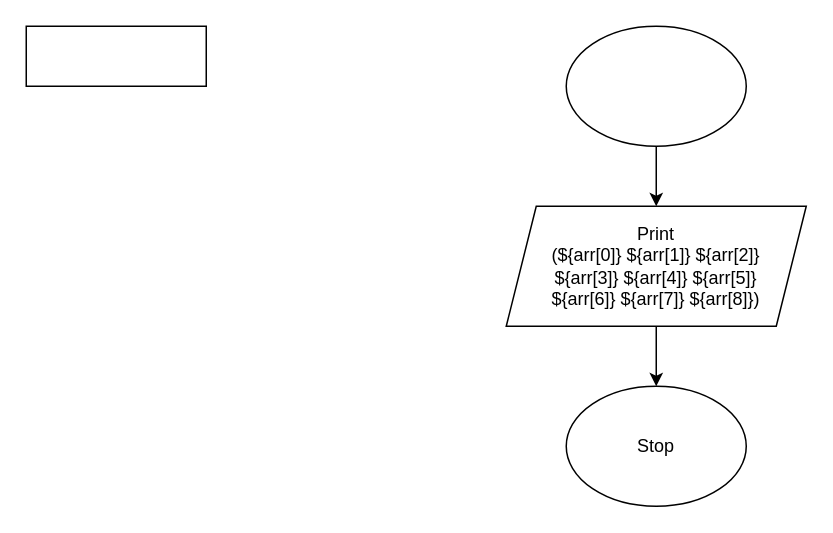
Image size: 833x533. Some labels were removed from this diagram. The centre of each missing label's shape, as x and y in pixels:
"Function printSquare" belongs at (115,55).
"Start" belongs at (655,85).
